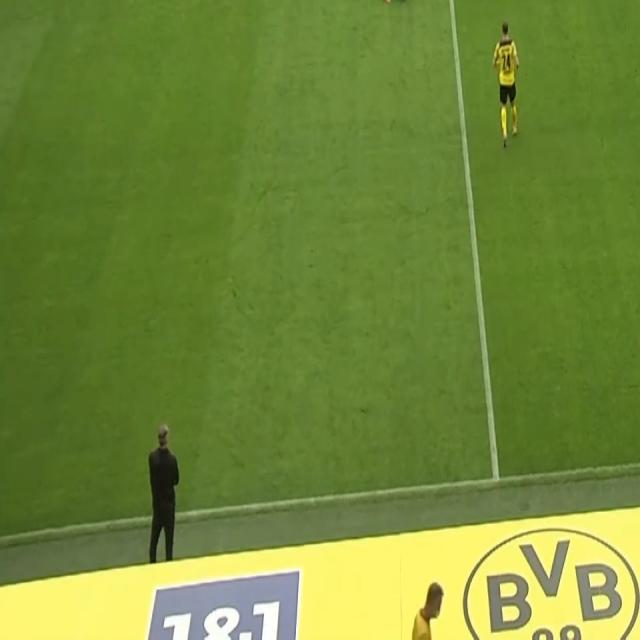ball: (398, 0, 408, 2)
